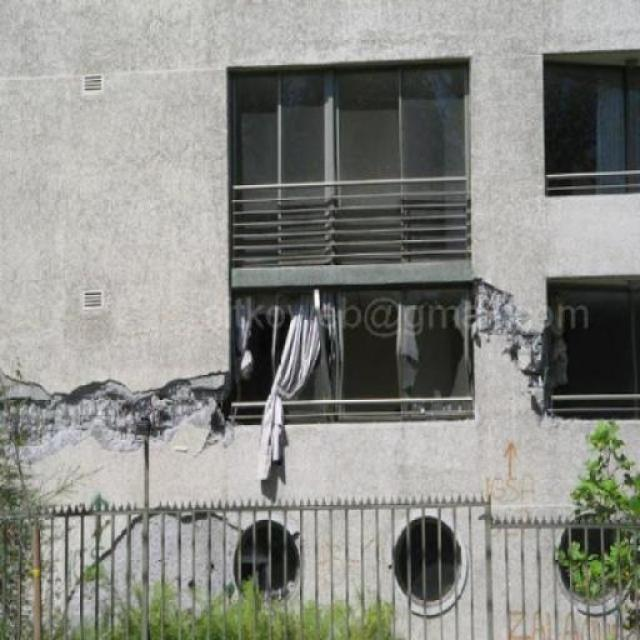D0w0: (0, 371, 228, 470), (472, 279, 542, 411)
